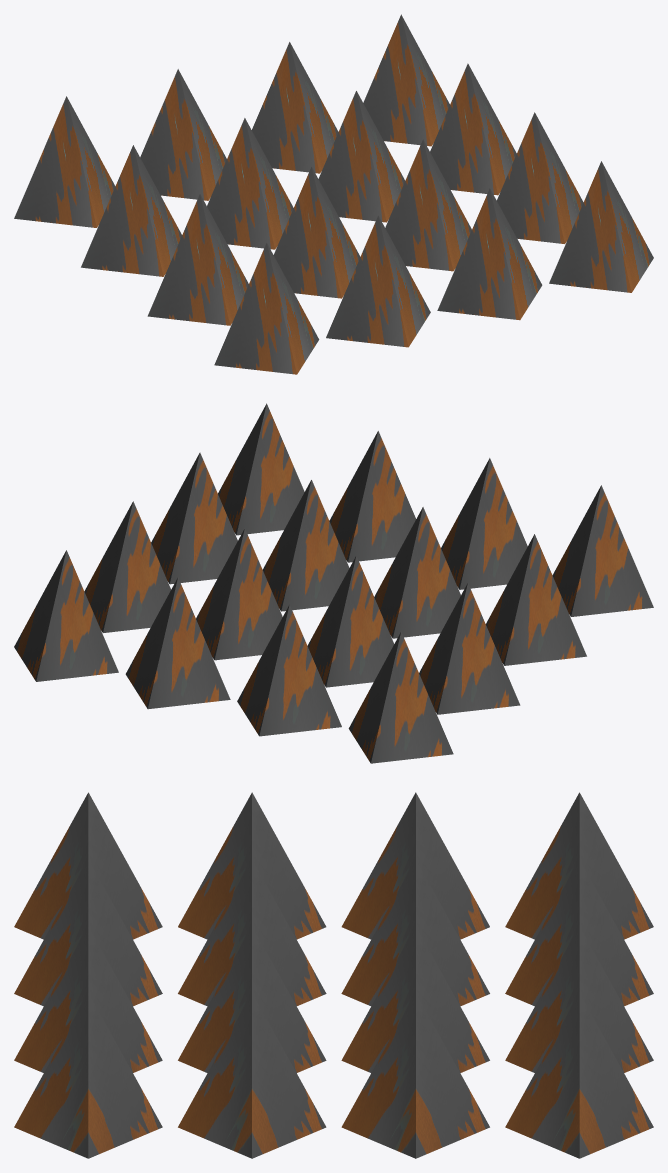
The model's file is Spikes 1.fbx.
The picture shows the model from 3 angles, top to bottom: view 1: azimuth 30°, elevation 25°; view 2: azimuth 150°, elevation 25°; view 3: azimuth 270°, elevation 25°; orthographic projection. The views are drawn at different scales.
Visible parts, largest first — view 1: Cone.016, Cone.017, Cone.019, Cone.018, Cone.001, Cone.006, Cone.011, Cone.014, Cone.013, Cone.012, Cone.008, Cone.002 (+4 smaller); view 2: Cone.001, Cone.002, Cone.004, Cone.003, Cone.016, Cone.006, Cone.011, Cone.009, Cone.008, Cone.007, Cone.013, Cone.012 (+4 smaller); view 3: Cone.009, Cone.014, Cone.004, Cone.019, Cone.002, Cone.003, Cone.006, Cone.011, Cone.017, Cone.018, Cone.007, Cone.012 (+4 smaller).
Boxes of the visible parts, box(x1,y1,x2,y2) form: Cone.016: box(214, 243, 319, 374); Cone.017: box(326, 215, 430, 347); Cone.019: box(549, 161, 653, 292); Cone.018: box(437, 188, 542, 320); Cone.001: box(14, 96, 115, 227); Cone.006: box(81, 145, 181, 276); Cone.011: box(147, 194, 248, 325); Cone.014: box(496, 112, 583, 243); Cone.013: box(385, 139, 471, 271); Cone.012: box(273, 167, 360, 298); Cone.008: box(318, 91, 404, 222); Cone.002: box(140, 69, 226, 200); Cone.001: box(348, 632, 453, 763); Cone.002: box(237, 604, 341, 736); Cone.004: box(14, 550, 118, 681); Cone.003: box(125, 577, 230, 709); Cone.016: box(552, 485, 653, 616); Cone.006: box(419, 583, 520, 714); Cone.011: box(486, 534, 586, 665); Cone.009: box(84, 501, 171, 632); Cone.008: box(196, 528, 282, 660); Cone.007: box(307, 556, 394, 687); Cone.013: box(263, 480, 349, 611); Cone.012: box(374, 507, 460, 638); Cone.009: box(341, 992, 489, 1158); Cone.014: box(178, 992, 326, 1158); Cone.004: box(505, 993, 653, 1158); Cone.019: box(14, 993, 162, 1158); Cone.002: box(505, 859, 653, 1006); Cone.003: box(505, 926, 653, 1072); Cone.006: box(341, 792, 489, 939); Cone.011: box(178, 792, 326, 939); Cone.017: box(14, 859, 162, 1006); Cone.018: box(14, 926, 162, 1072); Cone.007: box(341, 859, 489, 1006); Cone.012: box(178, 859, 326, 1006).
Bounding box in the file's own units: 837 × 200 × 860.
